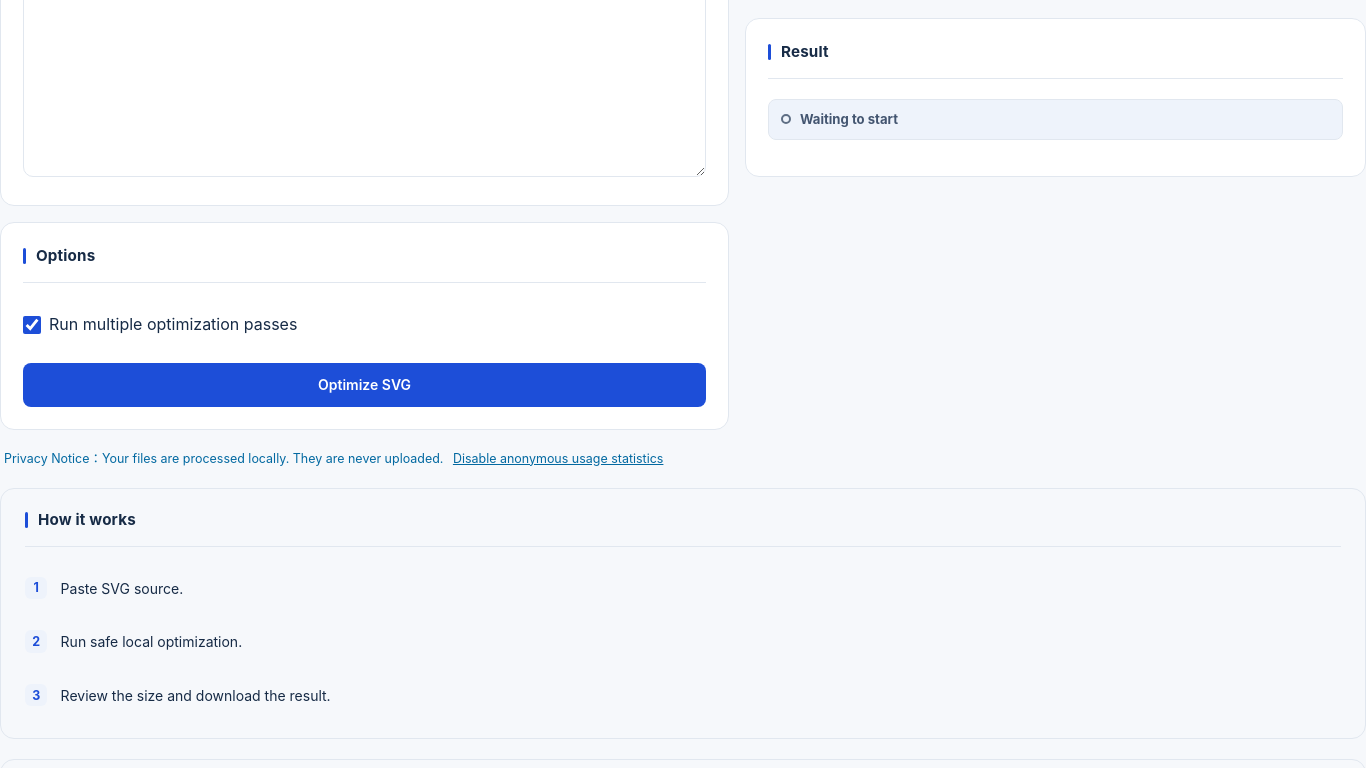
SvgOptimizerPage › reports size reduction and disables unsafe preview
The image size is (1366, 768).
(page scrolled)
Click the button "Optimize SVG" at (364, 385), box [23, 363, 706, 407]
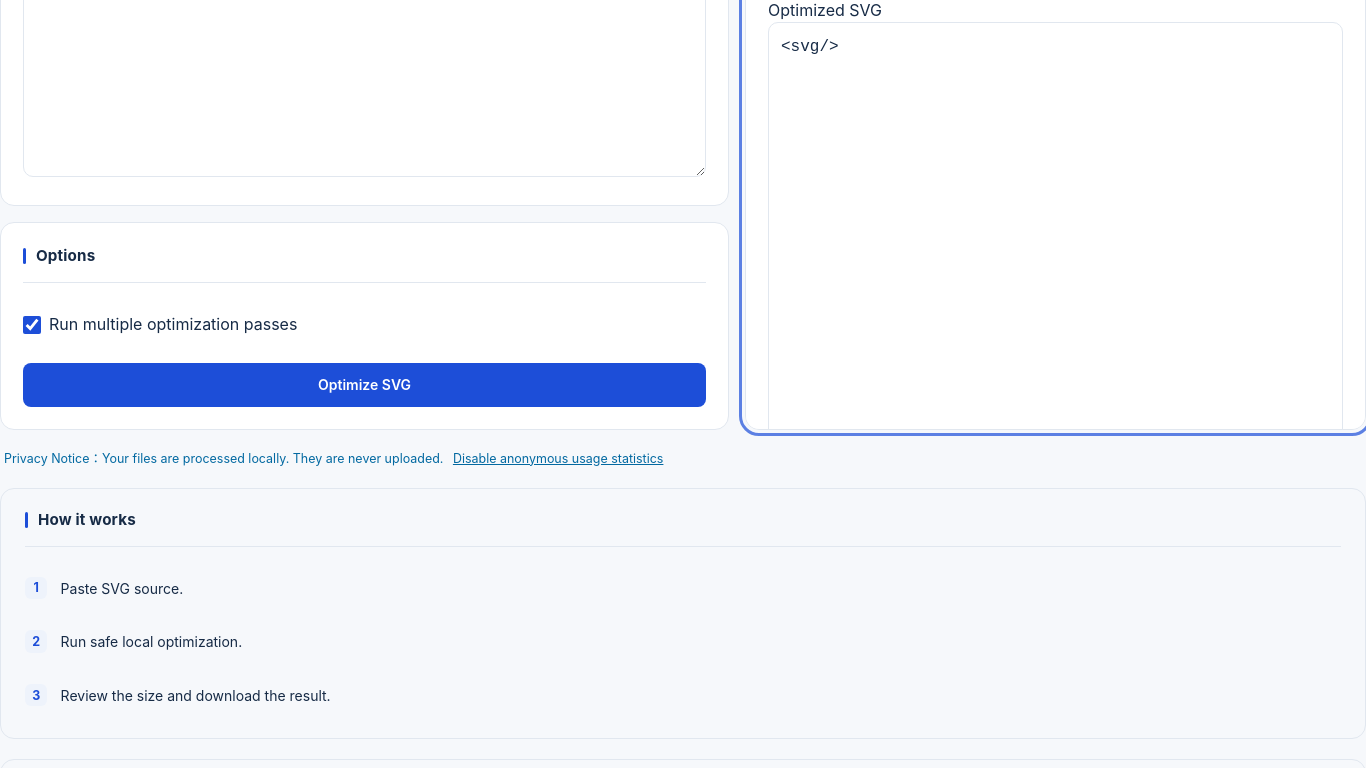
Now the text box labelled "Optimized SVG" holds "<svg/>", box [768, 22, 1343, 430]
